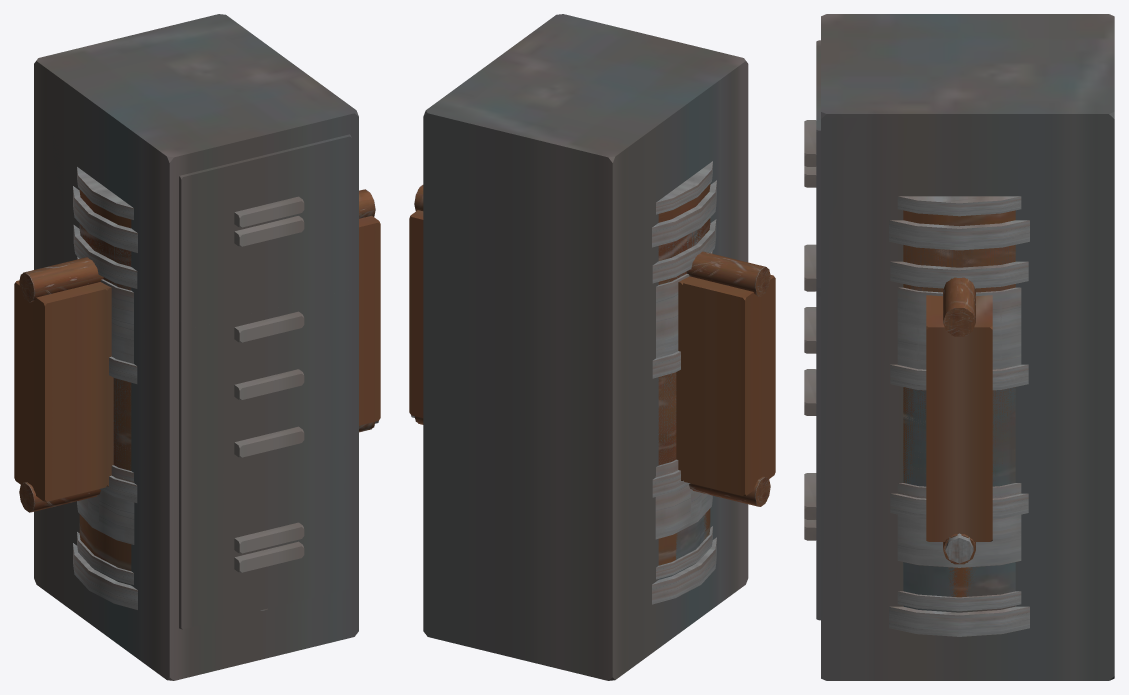
The model's file is propsMetal.glb.
3 renders of one model, left to right at view 1: azimuth 30°, elevation 25°; view 2: azimuth 150°, elevation 25°; view 3: azimuth 270°, elevation 25°, orthographic. The views are drawn at different scales.
Parts seen in each view (by area): view 1: filingCabinet_lod0_v0, chunk_3 (×4), filingCabinet_lod1_v0, chunk_4 (×3), filingCabinet_lod0_v1, radiator_lod1_v0, radiator_lod0_v0, chunk_2 (×3), explosiveBarrel_lod0_v0, chunk_5 (×2), metalBarrel_lod0_v0, explosiveBarrel_lod0_v1; view 2: filingCabinet_lod1_v0, filingCabinet_lod0_v0, radiator_lod1_v0, chunk_3 (×3), chunk_4 (×2), radiator_lod0_v0, explosiveBarrel_lod0_v0, chunk_5 (×2), metalBarrel_lod0_v0, chunk_2 (×2), explosiveBarrel_lod0_v1; view 3: filingCabinet_lod0_v0, filingCabinet_lod1_v0, chunk_3 (×4), radiator_lod1_v0, chunk_4 (×3), chunk_5 (×2), chunk_2 (×3), explosiveBarrel_lod0_v0, metalBarrel_lod0_v0, filingCabinet_lod0_v1, explosiveBarrel_lod0_v1, chunk_1 (×2) (+3 smaller).
Boxes of the visible parts, x1,y1,x2,y2 form: filingCabinet_lod0_v0: (34, 14, 358, 680); chunk_3 (×4): (14, 189, 373, 585); filingCabinet_lod1_v0: (34, 15, 355, 677); chunk_4 (×3): (76, 134, 351, 493); filingCabinet_lod0_v1: (179, 196, 351, 628); radiator_lod1_v0: (14, 189, 380, 512); radiator_lod0_v0: (19, 199, 380, 512); chunk_2 (×3): (73, 476, 304, 610); explosiveBarrel_lod0_v0: (73, 186, 137, 606); chunk_5 (×2): (73, 187, 137, 288); metalBarrel_lod0_v0: (73, 175, 136, 580); explosiveBarrel_lod0_v1: (88, 301, 133, 522); filingCabinet_lod1_v0: (423, 14, 748, 680); filingCabinet_lod0_v0: (424, 14, 748, 680); radiator_lod1_v0: (409, 189, 775, 506); chunk_3 (×3): (416, 184, 775, 579); chunk_4 (×2): (656, 251, 713, 488); radiator_lod0_v0: (409, 194, 770, 506); explosiveBarrel_lod0_v0: (652, 180, 716, 601); chunk_5 (×2): (652, 182, 716, 283); metalBarrel_lod0_v0: (653, 170, 716, 574); chunk_2 (×2): (652, 471, 716, 604); explosiveBarrel_lod0_v1: (656, 296, 701, 516); filingCabinet_lod0_v0: (804, 14, 1114, 680); filingCabinet_lod1_v0: (816, 14, 1114, 680); chunk_3 (×4): (804, 210, 1021, 612); radiator_lod1_v0: (926, 278, 992, 562); chunk_4 (×3): (804, 40, 1028, 390); chunk_5 (×2): (889, 220, 1029, 288); chunk_2 (×3): (889, 493, 1029, 636); explosiveBarrel_lod0_v0: (890, 220, 1028, 634); metalBarrel_lod0_v0: (890, 200, 1028, 611); filingCabinet_lod0_v1: (804, 120, 820, 619); explosiveBarrel_lod0_v1: (897, 301, 1021, 496); chunk_1 (×2): (816, 464, 1021, 619).
Size of what is drawn, in the model's own units: 0.915 by 1.32 by 0.655.
1 material, 1 textured.
